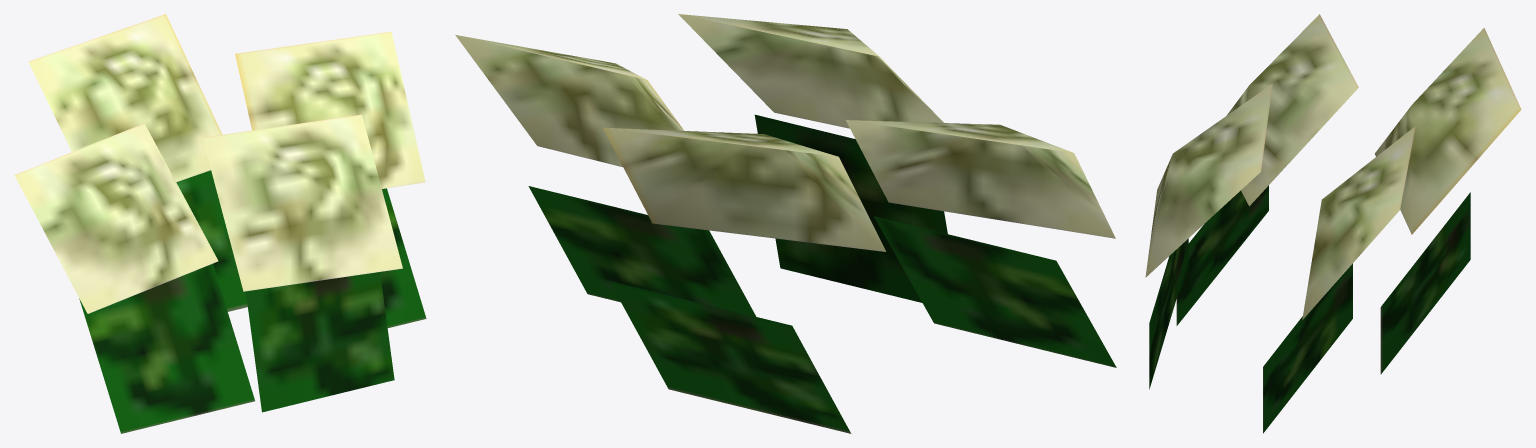
The model's file is flw_rose_wt.dae.
3 renders of one model, left to right at view 1: azimuth 30°, elevation 25°; view 2: azimuth 150°, elevation 25°; view 3: azimuth 270°, elevation 25°, orthographic. The views are drawn at different scales.
Visible parts, largest first — view 1: flw_rose_wt; view 2: flw_rose_wt; view 3: flw_rose_wt.
Boxes of the visible parts, x1,y1,x2,y2 form: flw_rose_wt: (14, 14, 426, 433); flw_rose_wt: (455, 14, 1116, 433); flw_rose_wt: (1145, 14, 1521, 433).
Size of the model in its own units: 33.43 by 19.21 by 25.27.
Materials: 1 (1 with a texture image).
